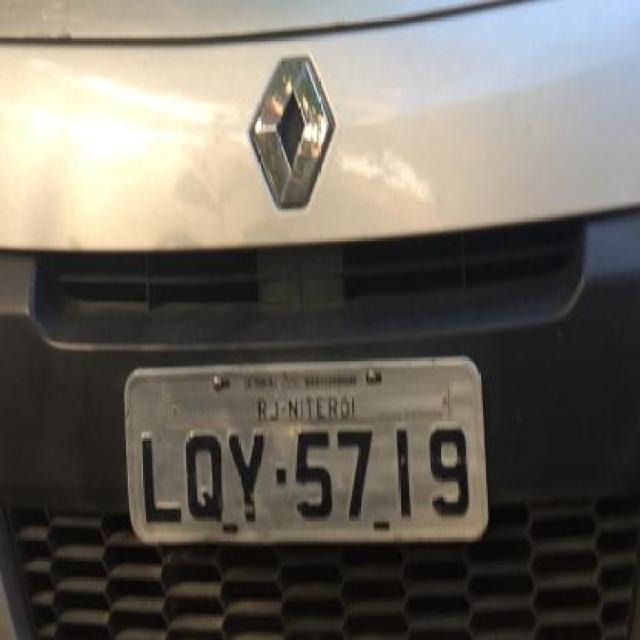old_plate: (119, 348, 493, 550)
